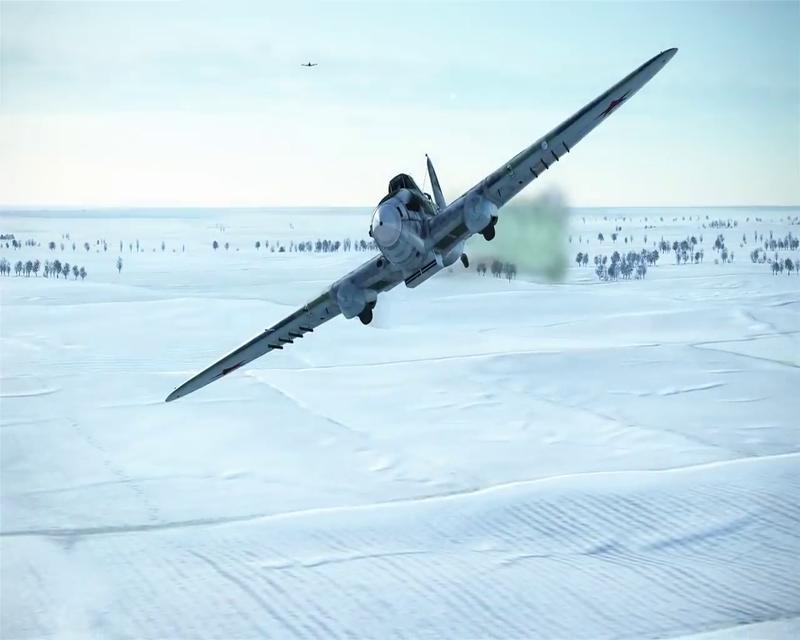UAV: (162, 45, 679, 403)
